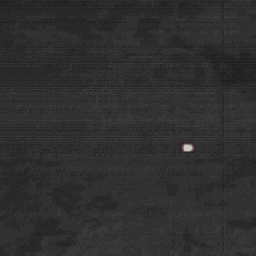Target: (181, 144, 195, 153)
